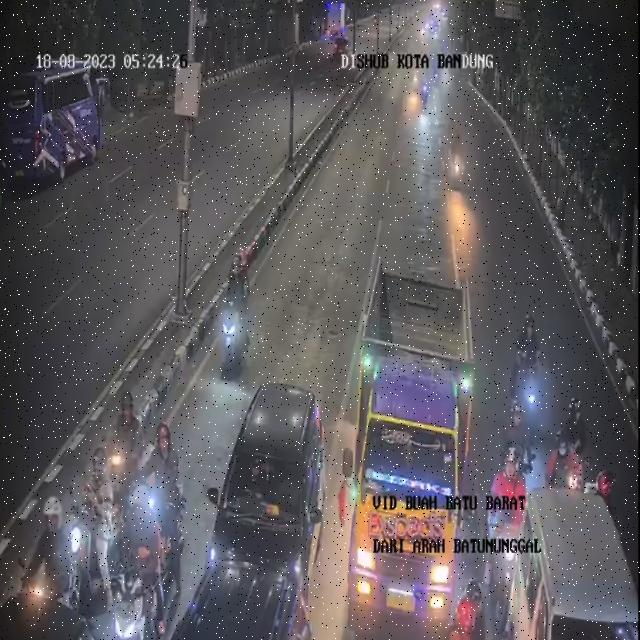cars: (208, 376, 328, 602), (499, 487, 639, 638), (178, 562, 308, 640)
motorcycle: (111, 488, 163, 640), (140, 417, 188, 569), (511, 300, 555, 440), (72, 440, 106, 598), (108, 395, 146, 509), (214, 252, 250, 371), (30, 490, 69, 598), (555, 386, 587, 488), (442, 579, 485, 640), (504, 404, 533, 482), (447, 131, 469, 193), (414, 69, 430, 115)
truck: (350, 275, 472, 636)
